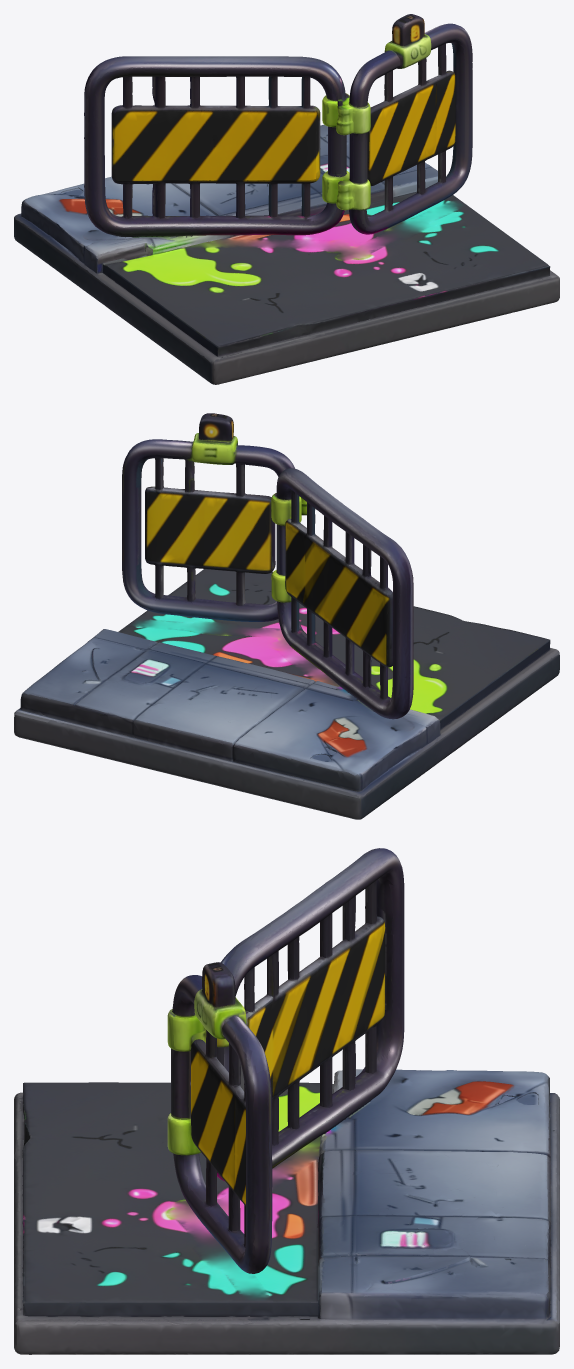
Rendered from u_ter_construction_barrier.glb.
The picture shows the model from 3 angles, top to bottom: view 1: azimuth 30°, elevation 25°; view 2: azimuth 150°, elevation 25°; view 3: azimuth 270°, elevation 25°; orthographic projection. The views are drawn at different scales.
Visible parts, largest first — view 1: geometry_0; view 2: geometry_0; view 3: geometry_0.
Boxes of the visible parts, bbox=[...] form: geometry_0: bbox=[14, 14, 559, 384]; geometry_0: bbox=[14, 413, 559, 819]; geometry_0: bbox=[14, 848, 559, 1354].
Size of the model in its own units: 0.18 by 0.123 by 0.18.
Materials: 1 (1 with a texture image).
